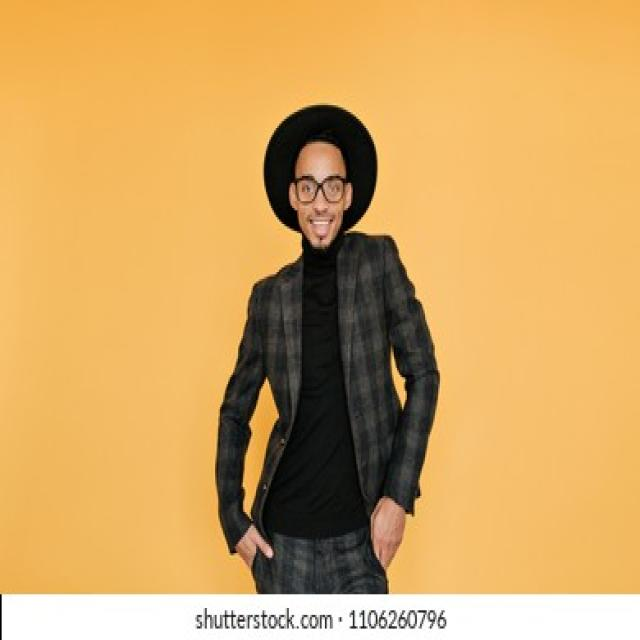hat: (264, 105, 378, 247)
